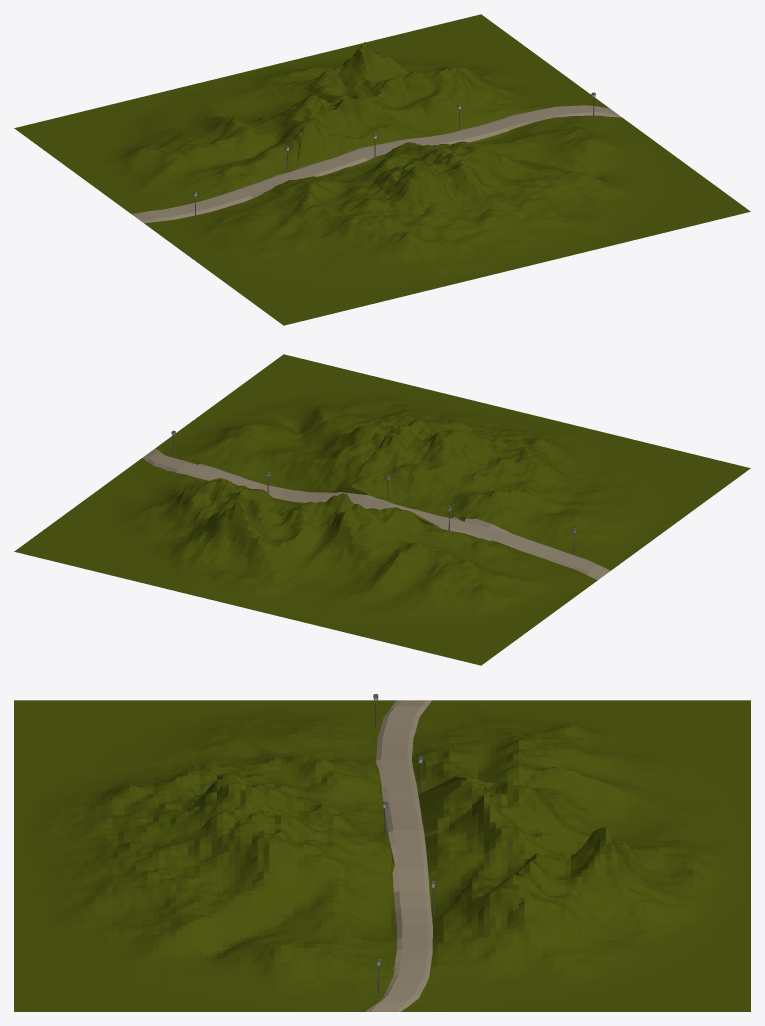
The model's file is Park01.fbx.
3 renders of one model, top to bottom at view 1: azimuth 30°, elevation 25°; view 2: azimuth 150°, elevation 25°; view 3: azimuth 270°, elevation 25°, orthographic. The views are drawn at different scales.
Parts seen in each view (by area): view 1: Terrain; view 2: Terrain; view 3: Terrain.
Part boxes in pixels (x1=…): Terrain: x1=14, y1=14, x2=750, y2=325; Terrain: x1=14, y1=354, x2=750, y2=665; Terrain: x1=14, y1=700, x2=750, y2=1011.
Bounding box in the file's own units: 12800 × 1383 × 12800.
